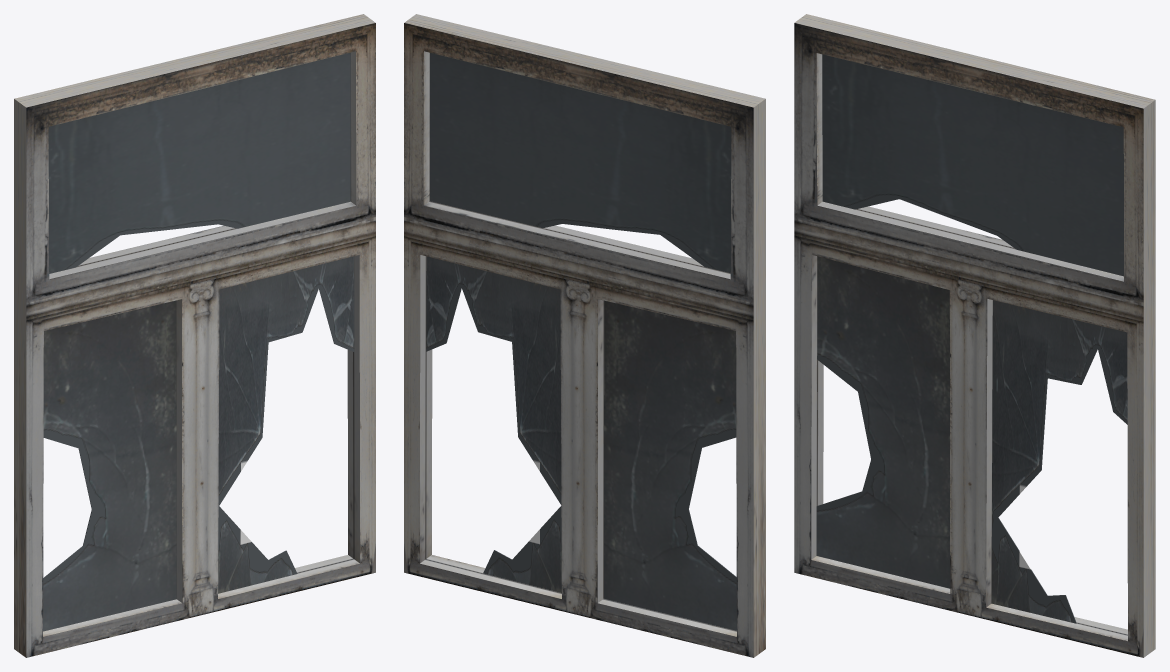
Rendered from Windows_10.fbx.
3 views of the same model, side by side, from view 1: azimuth 30°, elevation 25°; view 2: azimuth 150°, elevation 25°; view 3: azimuth 330°, elevation 25° (orthographic).
Parts seen in each view (by area): view 1: Windows_10glass (×3), Windows_10; view 2: Windows_10glass (×3), Windows_10; view 3: Windows_10glass (×3), Windows_10.
Boxes of the visible parts, x1,y1,x2,y2 form: Windows_10glass (×3): (43, 52, 354, 631); Windows_10: (14, 14, 375, 657); Windows_10glass (×3): (426, 53, 736, 630); Windows_10: (404, 14, 765, 657); Windows_10glass (×3): (816, 54, 1127, 623); Windows_10: (794, 14, 1155, 657).
Size of the model in its own units: 96.13 by 5.76 by 145.
2 materials, 2 textured.
